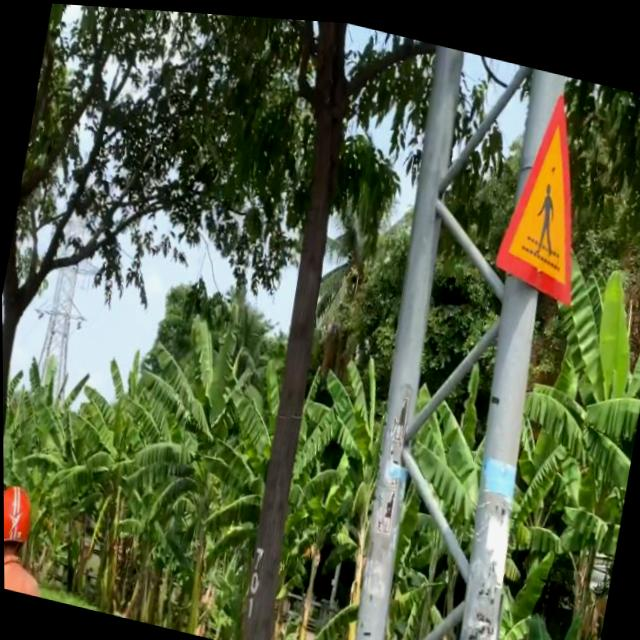Nguoi di bo cat ngang: (486, 71, 609, 304)
